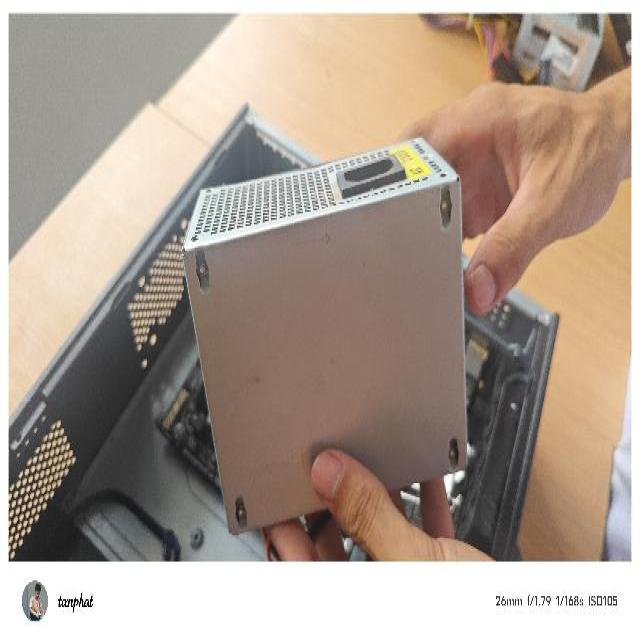PSU: (173, 131, 471, 531)
